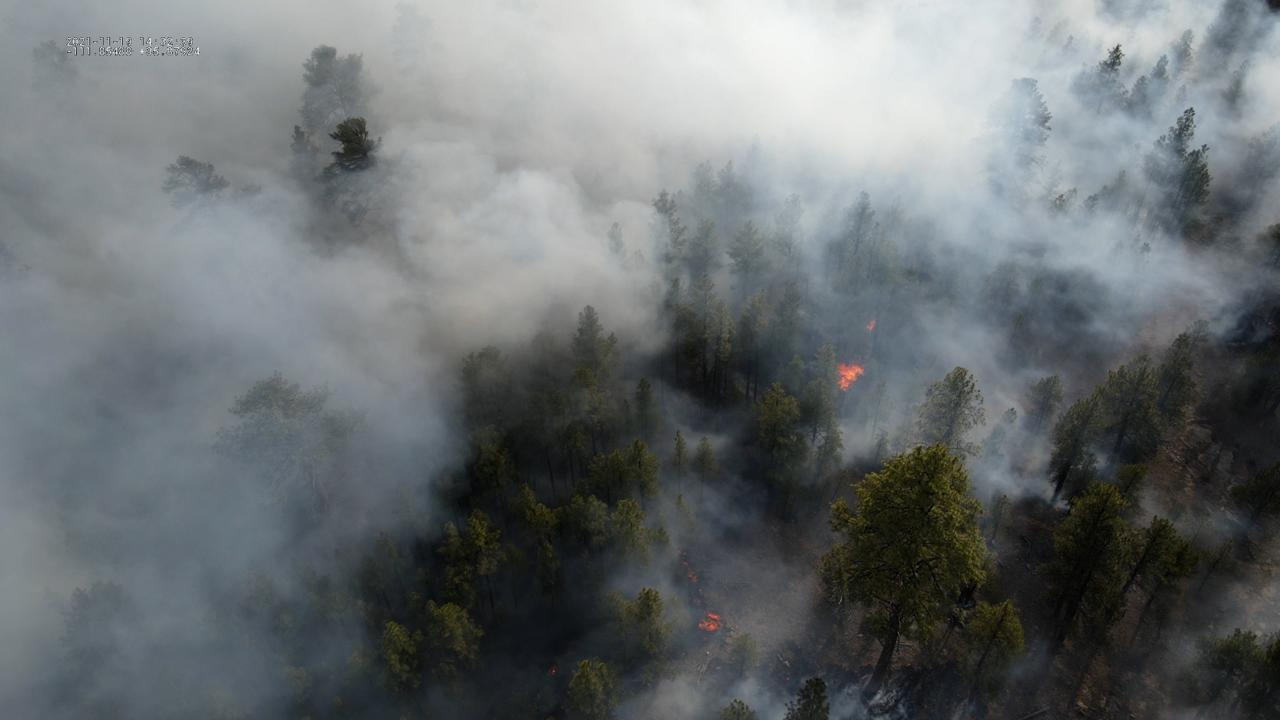fire: (834, 361, 866, 394), (695, 610, 722, 632), (680, 561, 700, 584), (864, 318, 877, 333), (546, 665, 561, 677)
smoke: (0, 0, 1280, 720)
